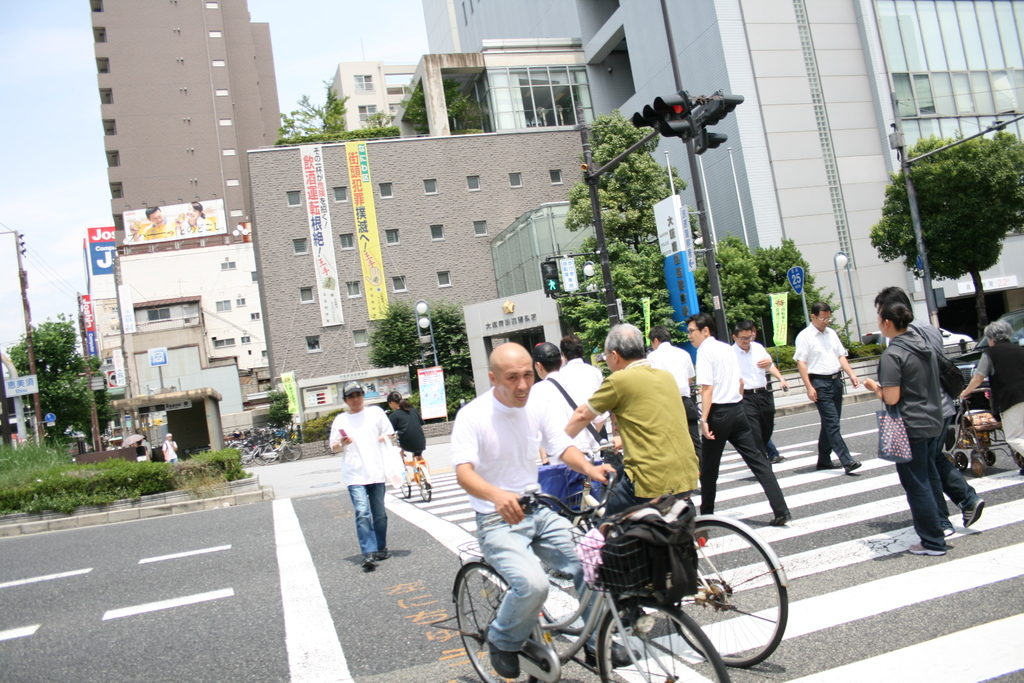Tree: (560, 114, 701, 356), (864, 133, 1023, 330), (702, 238, 849, 353), (10, 288, 107, 447), (262, 82, 405, 151)
